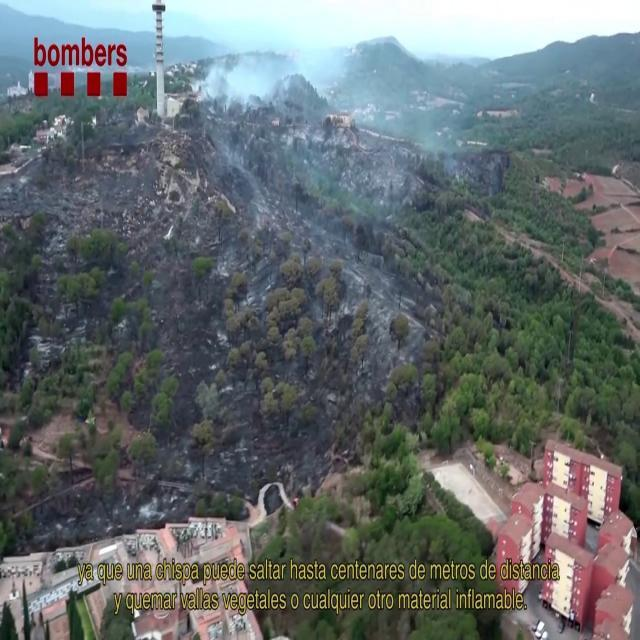Smoke: (191, 38, 297, 118)
